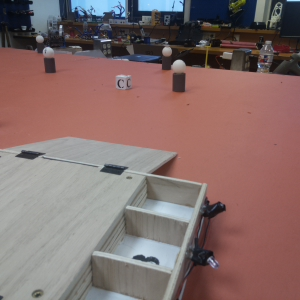obstacle: (172, 57, 185, 92), (43, 46, 56, 74), (160, 45, 171, 69), (36, 34, 44, 52)
side: (86, 176, 231, 300)
slope: (9, 132, 183, 175)
